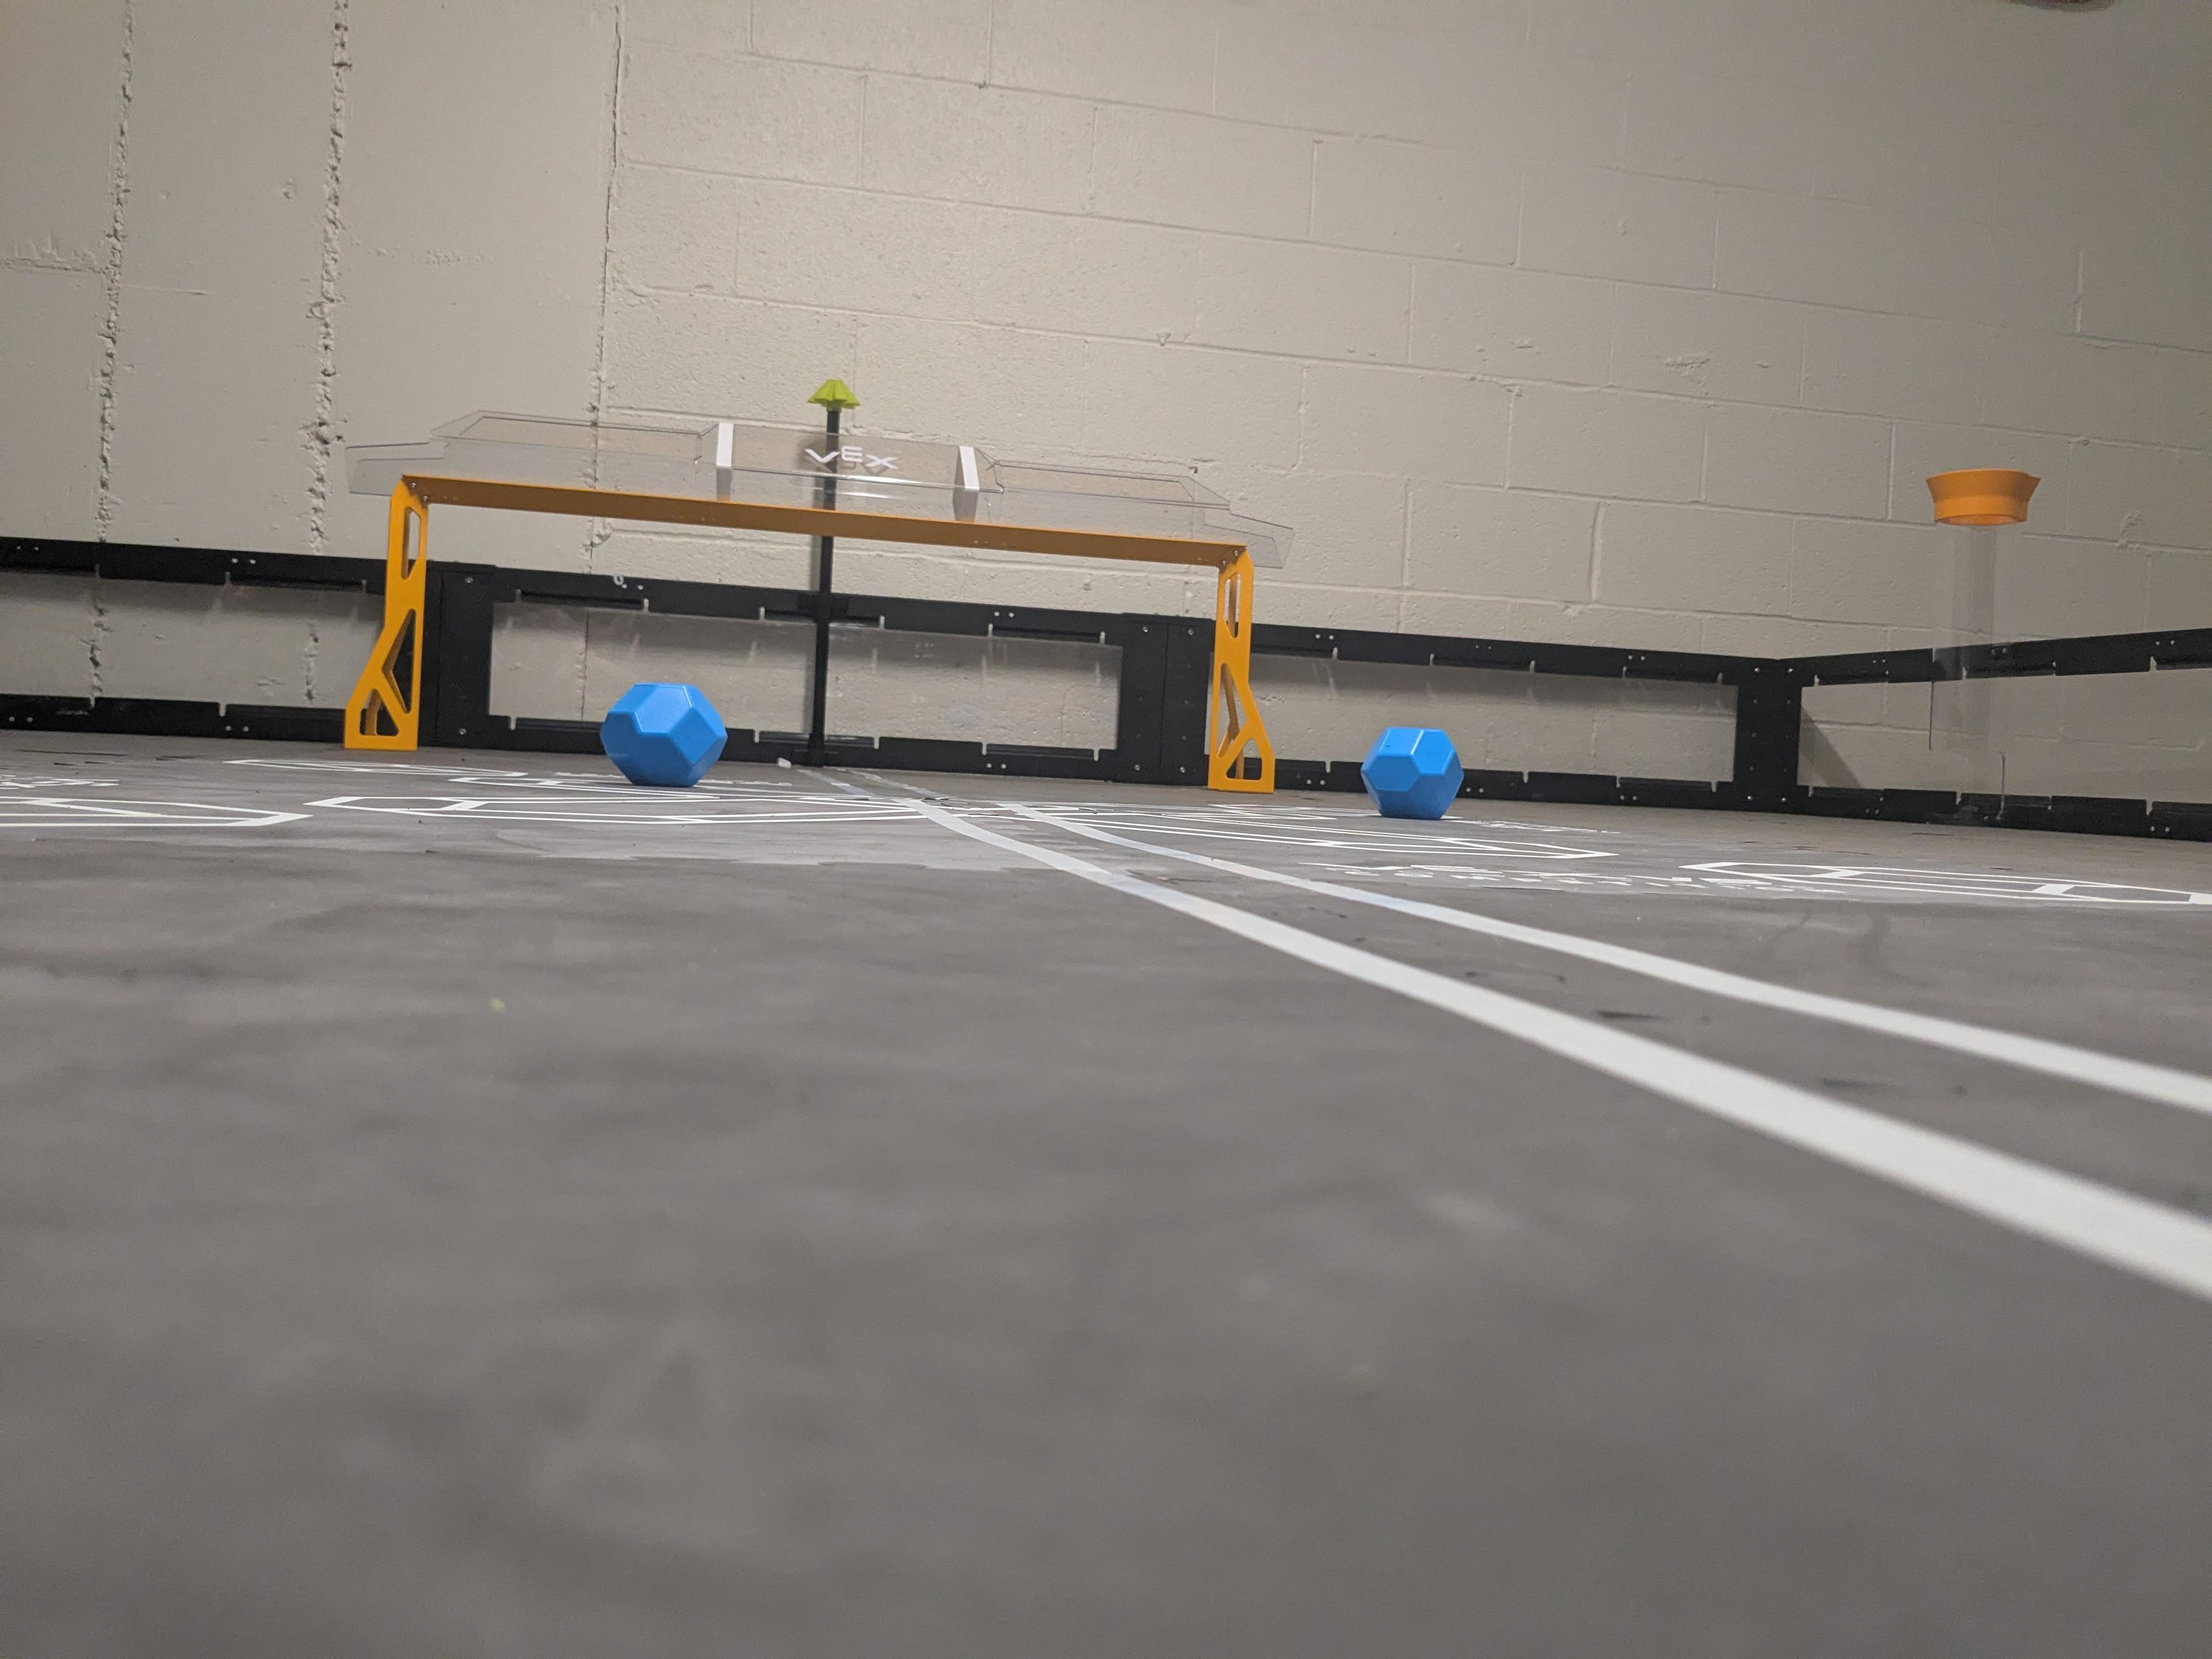Vex-Pieces-BLUE: (608, 685, 725, 784), (1364, 727, 1461, 816)
